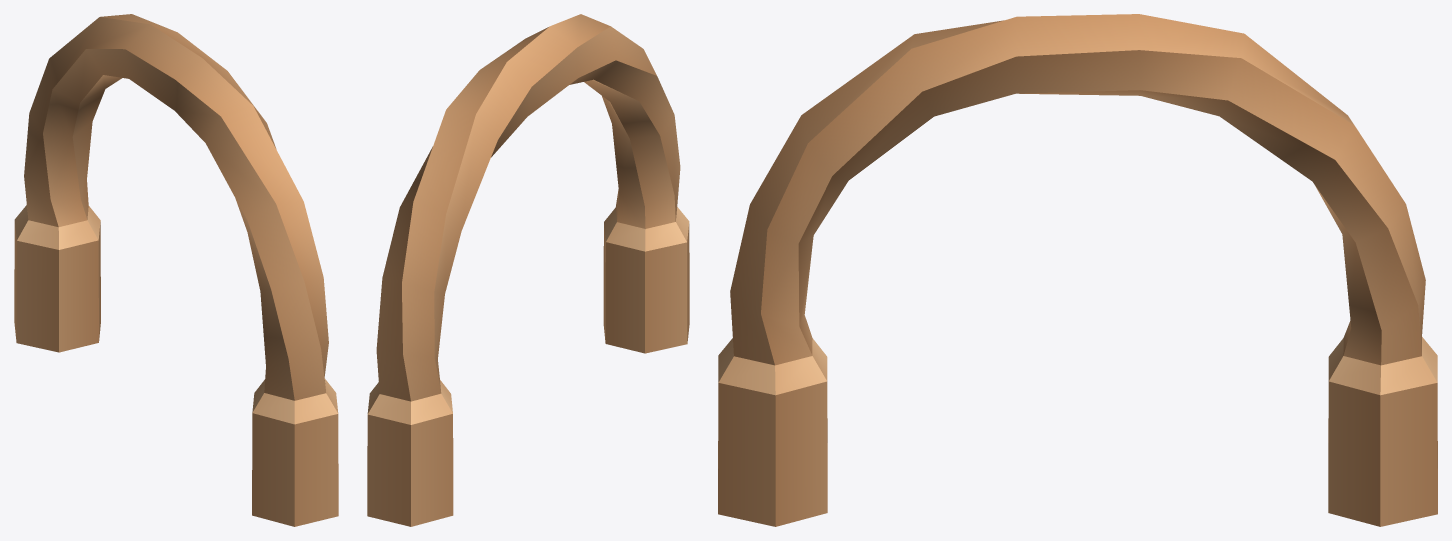
File: Basket_Mushrooms_Handle.obj
3 renders of one model, left to right at view 1: azimuth 30°, elevation 25°; view 2: azimuth 150°, elevation 25°; view 3: azimuth 270°, elevation 25°, orthographic. The views are drawn at different scales.
Visible parts, largest first — view 1: Basket_Mushrooms_Handle; view 2: Basket_Mushrooms_Handle; view 3: Basket_Mushrooms_Handle.
Boxes of the visible parts, left/top/right/bottom form: Basket_Mushrooms_Handle: left=14, top=14, right=338, bottom=526; Basket_Mushrooms_Handle: left=367, top=14, right=689, bottom=526; Basket_Mushrooms_Handle: left=718, top=14, right=1437, bottom=526.
Size of the model in its own units: 0.1041 by 0.4661 by 0.5984.
Materials: 1 (1 with a texture image).
